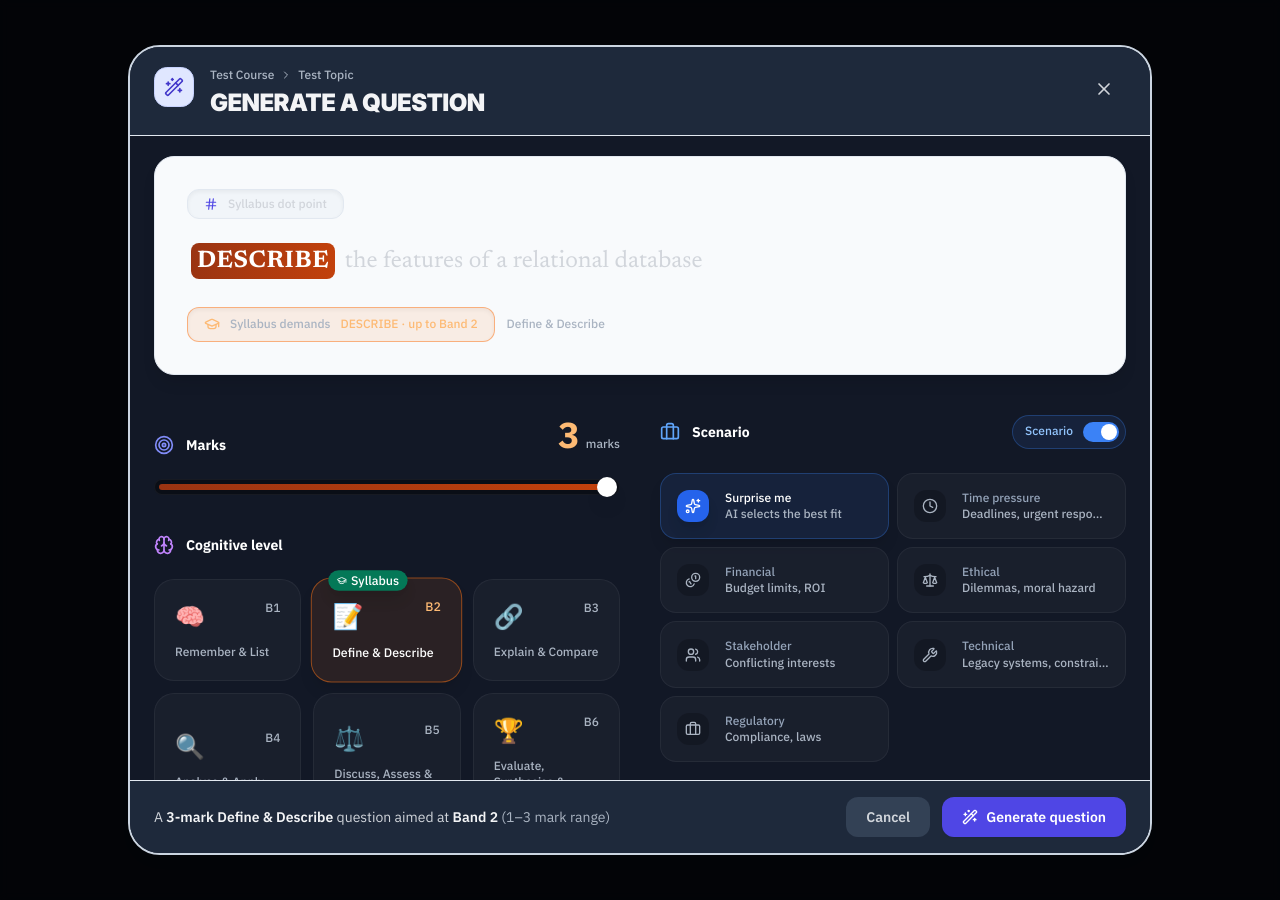
PromptGeneratorModal surfaces generation failures › renders the error card when generation rejects
This screenshot has width=1280, height=900.
Click the button "Generate question" at [1034, 817], box 942,797 -> 1126,837
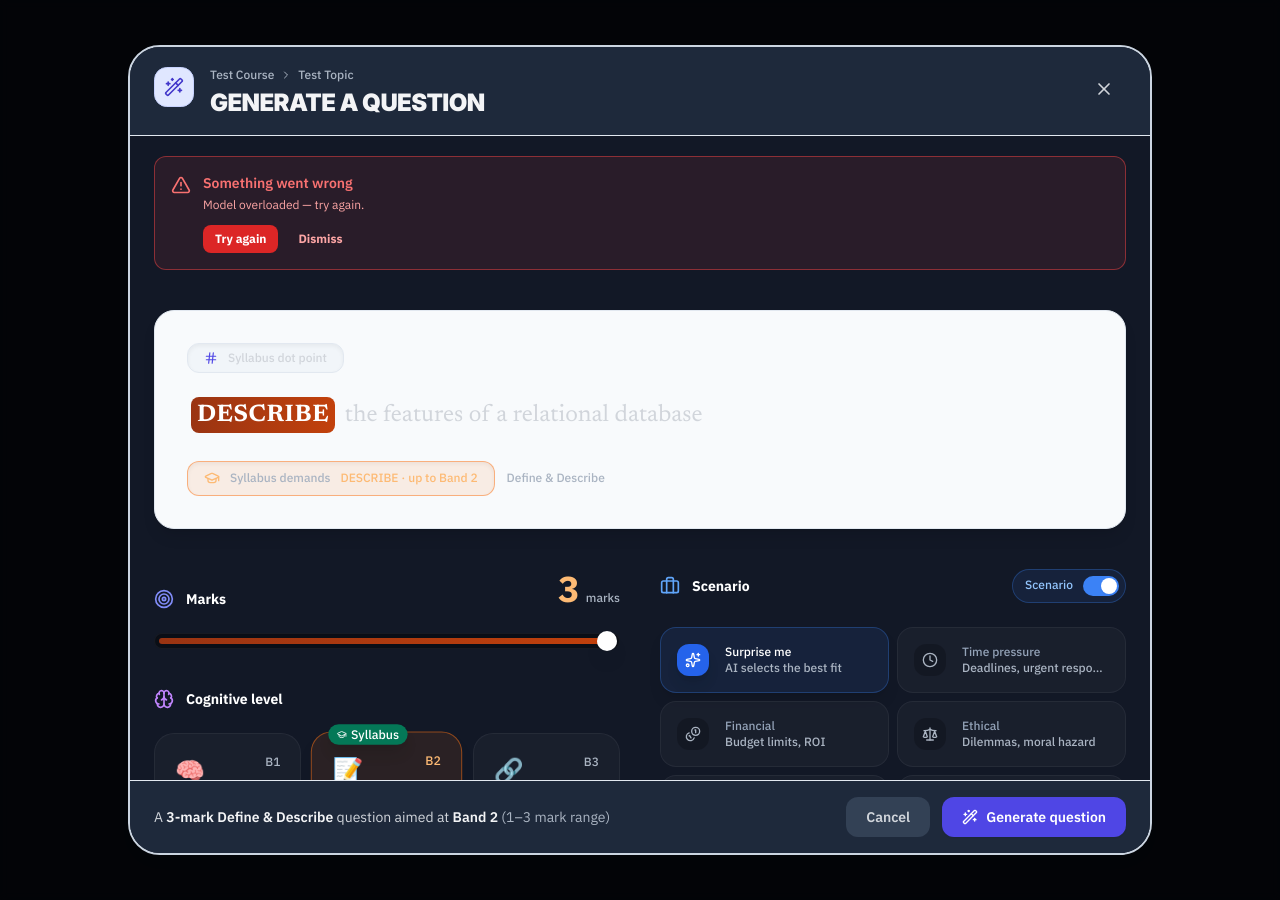
Result: the message "Something went wrong Model overloaded — try again. Try again Dismiss" is shown at 154,156 -> 1126,270
Result: the text "Model overloaded — try again." is shown at 203,197 -> 364,212
Result: the button "Try again" is shown at 203,225 -> 278,253
